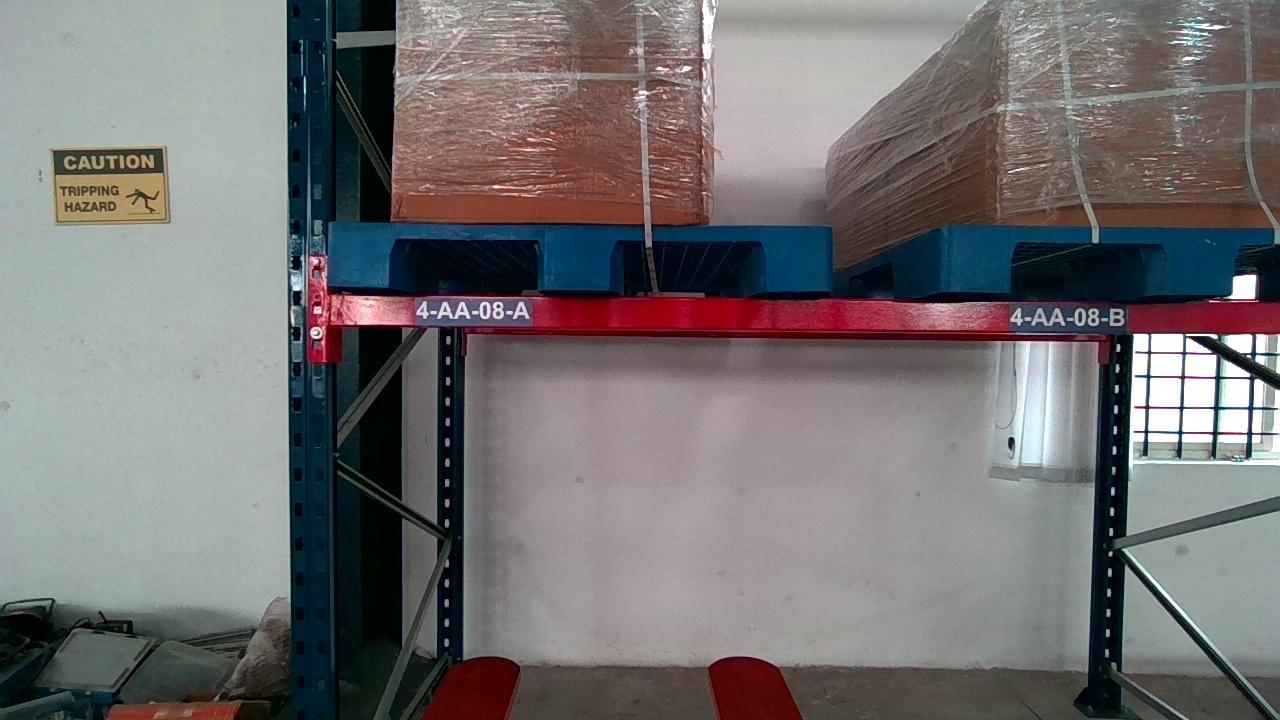h_rack: (323, 294, 1278, 331)
small_pallet: (328, 223, 829, 285), (946, 227, 1274, 296)
